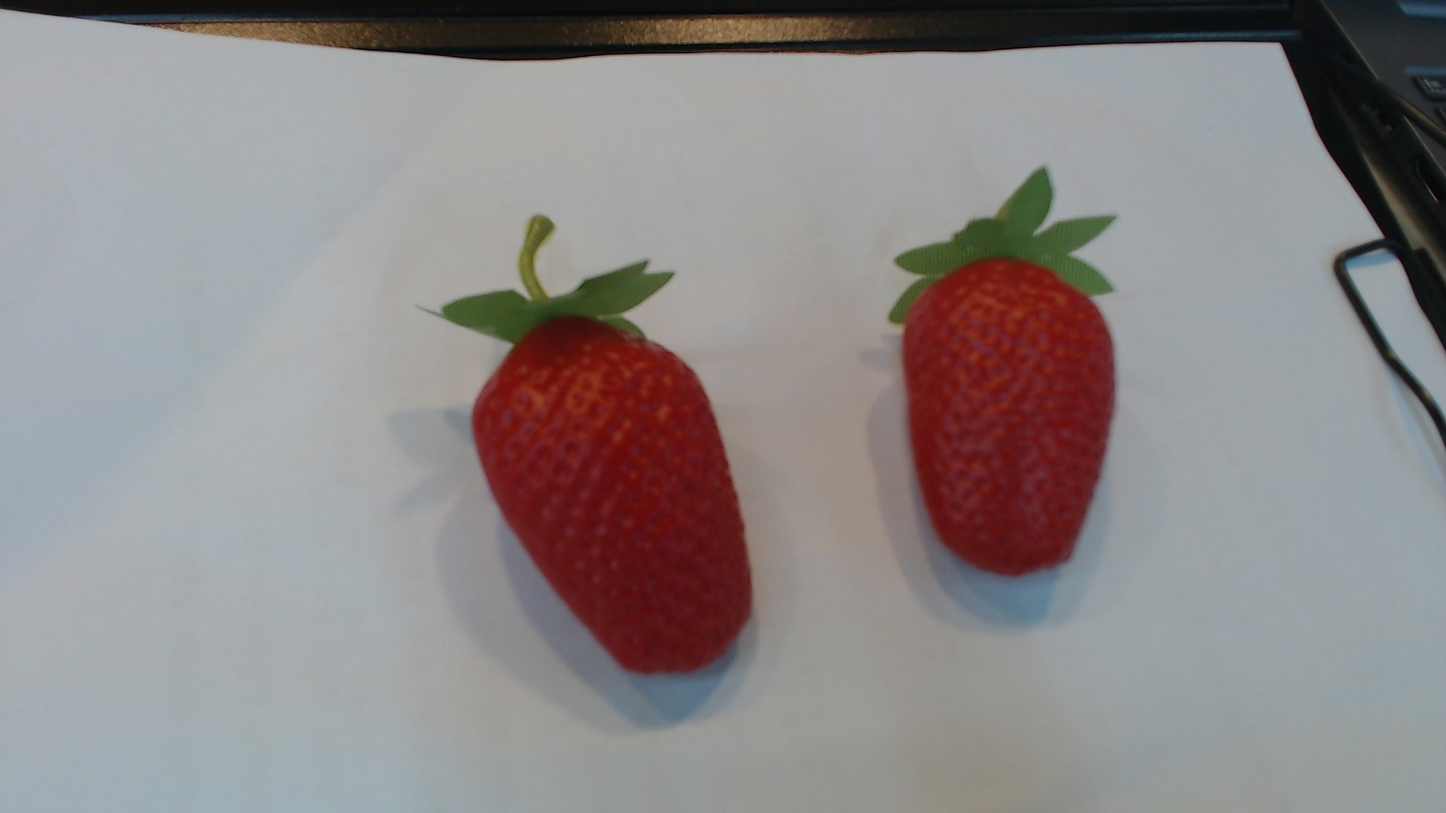strawberry: (459, 312, 760, 679), (887, 258, 1134, 585)
